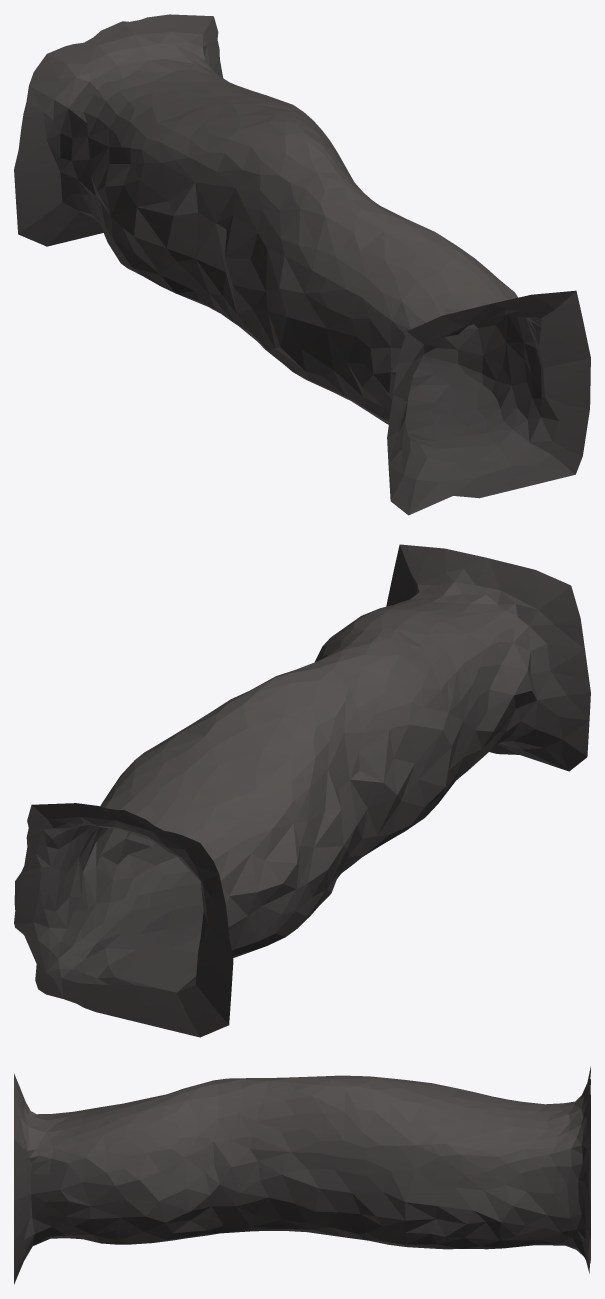
File: ZLP_Cave_A_2.FBX
3 renders of one model, top to bottom at view 1: azimuth 30°, elevation 25°; view 2: azimuth 150°, elevation 25°; view 3: azimuth 270°, elevation 25°, orthographic. The views are drawn at different scales.
Parts seen in each view (by area): view 1: ZLP_Cave_A_2; view 2: ZLP_Cave_A_2; view 3: ZLP_Cave_A_2.
Part boxes in pixels (bbox=[...]): ZLP_Cave_A_2: bbox=[14, 14, 590, 515]; ZLP_Cave_A_2: bbox=[14, 544, 590, 1037]; ZLP_Cave_A_2: bbox=[14, 1066, 590, 1284].
Bounding box in the file's own units: 1651 × 1562 × 4787.
